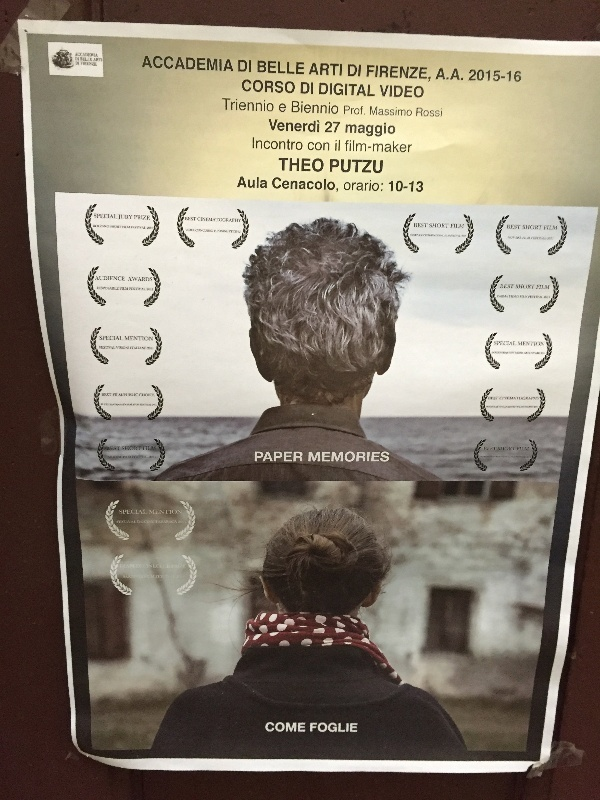text: (161, 55, 176, 72), (177, 55, 192, 72), (193, 55, 208, 72), (209, 55, 224, 72), (369, 65, 384, 82), (385, 65, 400, 82), (401, 65, 416, 82), (353, 122, 368, 138), (369, 122, 384, 138), (146, 55, 160, 72), (417, 65, 431, 82), (257, 79, 272, 94), (273, 79, 288, 94), (337, 159, 352, 174), (353, 159, 368, 174), (273, 61, 288, 75), (289, 61, 304, 75), (225, 98, 240, 112), (241, 98, 256, 112), (257, 98, 272, 112), (369, 159, 383, 174), (289, 158, 304, 172), (305, 158, 320, 172), (273, 178, 288, 192), (289, 178, 304, 192), (305, 178, 320, 192), (321, 178, 336, 192), (258, 61, 272, 75), (243, 79, 256, 94), (321, 63, 336, 76), (321, 83, 336, 96), (337, 83, 352, 96), (353, 83, 368, 96), (481, 69, 496, 82), (497, 69, 512, 82), (305, 101, 320, 114), (321, 101, 336, 114), (273, 120, 288, 133), (289, 120, 304, 133), (305, 120, 320, 133), (257, 138, 272, 151), (273, 138, 288, 151), (289, 138, 303, 151), (385, 86, 400, 98), (401, 86, 416, 98), (449, 69, 464, 81), (353, 141, 368, 153), (369, 141, 384, 153), (385, 141, 400, 153), (401, 181, 416, 193), (385, 122, 396, 138), (241, 177, 256, 188), (353, 180, 368, 191), (273, 722, 288, 733), (289, 722, 304, 733), (292, 101, 304, 114), (369, 180, 383, 191), (385, 107, 400, 117), (257, 452, 272, 462), (273, 452, 288, 462), (321, 452, 336, 462), (337, 452, 352, 462), (353, 452, 368, 462), (369, 452, 384, 462), (321, 723, 336, 733), (337, 723, 352, 733), (370, 107, 384, 117), (289, 452, 303, 462), (225, 55, 233, 72), (417, 108, 432, 117), (401, 141, 412, 153), (389, 181, 400, 193), (470, 69, 480, 82), (279, 158, 288, 172), (241, 60, 251, 72), (401, 107, 413, 117), (513, 69, 522, 82), (353, 106, 366, 115), (257, 177, 267, 188), (309, 452, 320, 462), (308, 142, 320, 151), (305, 82, 313, 95), (353, 64, 361, 77), (440, 69, 448, 81), (346, 122, 352, 138), (313, 63, 320, 76), (369, 83, 376, 96), (289, 79, 295, 94), (311, 723, 320, 733), (344, 180, 352, 191), (417, 86, 424, 98), (417, 181, 424, 193), (433, 108, 442, 117), (321, 142, 330, 151), (280, 103, 288, 113), (265, 722, 272, 733), (81, 53, 96, 58), (331, 159, 336, 174), (97, 214, 112, 219), (545, 225, 560, 230), (497, 341, 512, 346), (97, 276, 112, 281), (161, 510, 176, 515), (129, 564, 144, 569), (145, 564, 160, 569), (161, 564, 176, 569), (346, 141, 352, 153), (529, 225, 543, 230), (130, 277, 144, 282), (337, 63, 342, 76), (113, 276, 126, 281), (225, 218, 241, 222), (225, 229, 241, 233), (345, 106, 352, 115), (209, 218, 224, 222), (193, 229, 208, 233), (209, 229, 224, 233), (81, 58, 96, 62), (81, 62, 96, 66), (433, 224, 448, 228), (97, 225, 112, 229), (113, 225, 128, 229), (129, 225, 144, 229), (513, 295, 528, 299), (529, 295, 544, 299), (529, 342, 544, 346), (97, 287, 112, 291), (113, 287, 128, 291), (129, 287, 144, 291), (100, 336, 112, 341), (129, 337, 144, 341), (113, 346, 128, 350), (129, 346, 144, 350), (113, 393, 128, 397), (129, 446, 141, 451), (129, 510, 144, 514), (498, 295, 512, 299), (417, 223, 428, 228), (501, 284, 512, 289), (113, 336, 124, 341), (145, 446, 156, 451), (451, 224, 464, 228), (499, 447, 512, 451), (118, 215, 128, 220), (150, 510, 160, 515), (353, 723, 358, 733), (380, 86, 384, 98), (516, 285, 528, 289), (484, 447, 496, 451), (100, 346, 112, 350), (417, 234, 432, 237), (433, 234, 448, 237), (449, 234, 464, 237), (135, 215, 144, 220), (513, 237, 528, 240), (529, 237, 544, 240), (497, 352, 512, 355), (513, 352, 528, 355), (529, 352, 544, 355), (513, 397, 528, 400), (481, 456, 496, 459), (497, 456, 512, 459), (513, 456, 528, 459), (113, 456, 128, 459), (129, 456, 144, 459), (129, 521, 144, 524), (145, 521, 160, 524), (161, 521, 176, 524), (321, 158, 324, 172), (198, 218, 208, 222), (518, 447, 528, 451), (385, 452, 389, 462), (177, 564, 185, 569), (301, 82, 304, 95), (349, 64, 352, 77), (269, 120, 272, 133), (253, 138, 256, 151), (513, 225, 522, 229), (519, 342, 528, 346), (500, 397, 512, 400), (145, 346, 154, 350), (119, 510, 128, 514), (145, 277, 152, 282), (121, 564, 128, 569), (337, 140, 340, 151), (529, 397, 540, 400), (145, 456, 156, 459), (117, 521, 128, 524), (145, 225, 153, 229), (145, 287, 153, 291), (145, 337, 153, 341), (113, 447, 121, 451), (497, 406, 512, 408), (513, 406, 528, 408), (102, 394, 112, 397), (145, 394, 155, 397), (113, 404, 128, 406), (129, 404, 144, 406), (122, 446, 128, 451), (129, 576, 144, 578), (145, 576, 160, 578), (161, 576, 176, 578), (222, 98, 224, 112), (537, 285, 544, 289), (489, 397, 496, 401), (129, 394, 138, 397), (177, 521, 186, 524), (113, 214, 118, 219), (145, 215, 150, 220), (523, 225, 528, 230), (177, 510, 182, 515), (186, 217, 192, 221), (186, 229, 192, 233), (545, 237, 553, 240), (529, 285, 535, 289), (145, 404, 157, 406), (76, 53, 80, 58), (129, 215, 133, 220), (545, 285, 550, 289), (545, 295, 550, 299), (513, 341, 517, 346), (102, 404, 112, 406), (107, 447, 112, 451), (487, 406, 496, 408), (529, 406, 538, 408), (367, 65, 368, 82), (193, 217, 197, 221), (76, 57, 80, 61), (508, 225, 512, 229), (97, 59, 102, 62), (411, 234, 416, 237), (139, 394, 144, 397), (273, 98, 274, 112), (337, 178, 338, 192), (337, 101, 338, 114), (76, 62, 80, 65), (239, 60, 240, 72), (93, 225, 96, 229), (508, 237, 512, 240), (492, 352, 496, 355), (513, 447, 516, 451), (125, 337, 128, 341), (124, 394, 128, 397), (108, 456, 112, 459), (145, 510, 148, 514), (177, 576, 183, 578), (305, 722, 306, 733), (414, 223, 416, 228), (94, 214, 96, 219), (513, 284, 515, 289), (255, 452, 256, 462), (123, 394, 128, 396), (430, 224, 432, 228), (497, 397, 499, 401), (124, 576, 128, 578), (94, 59, 96, 62), (529, 456, 531, 459), (97, 53, 98, 58), (495, 341, 496, 346), (143, 446, 144, 451), (449, 224, 450, 228), (465, 234, 466, 237), (545, 352, 546, 355)
